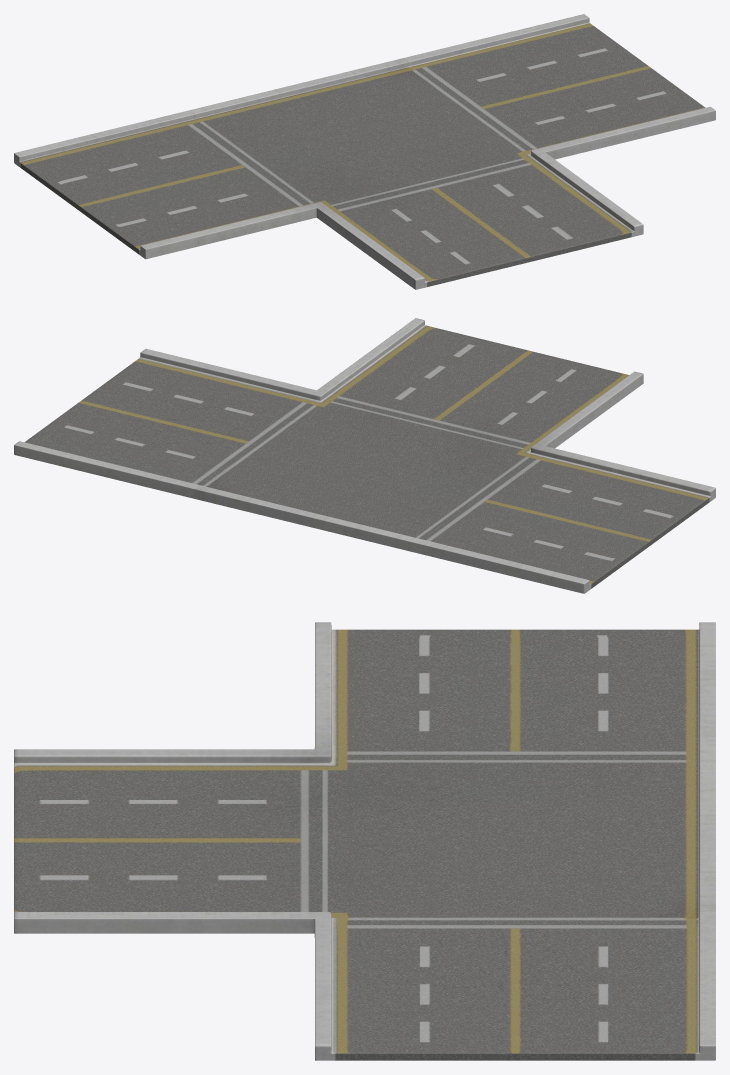
File: road2.glb
3 views of the same model, one above another, from view 1: azimuth 30°, elevation 25°; view 2: azimuth 150°, elevation 25°; view 3: azimuth 270°, elevation 25° (orthographic). The views are drawn at different scales.
Visible parts, largest first — view 1: 10564_RoadSectionT_v2-L3; view 2: 10564_RoadSectionT_v2-L3; view 3: 10564_RoadSectionT_v2-L3.
Boxes of the visible parts, x1,y1,x2,y2 form: 10564_RoadSectionT_v2-L3: (14, 14, 715, 289); 10564_RoadSectionT_v2-L3: (14, 318, 715, 593); 10564_RoadSectionT_v2-L3: (14, 622, 715, 1060).
Bounding box in the file's own units: 18.29 × 0.3048 × 12.8.
Materials: 1 (1 with a texture image).
